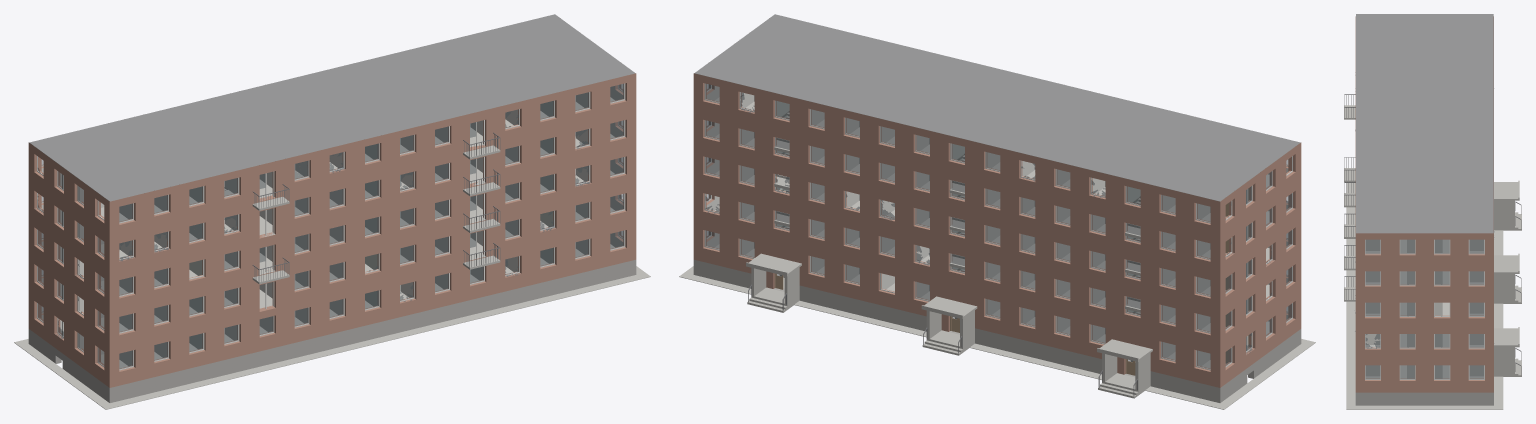
3 views of the same model, side by side, from view 1: azimuth 30°, elevation 25°; view 2: azimuth 150°, elevation 25°; view 3: azimuth 270°, elevation 25° (orthographic). The views are drawn at different scales.
Parts seen in each view (by area): view 1: b6_slab_f05__roof, b6_outer_f04__brick_facade, b6_outer_f00__brick_facade, b6_outer_f02__brick_facade, b6_outer_f01__brick_facade, b6_outer_f03__brick_facade, b6_outer_f00__plinth, b6_apron_f00, b6_glass_f00, b6_glass_f02, b6_glass_f04, b6_glass_f01 (+20 smaller); view 2: b6_slab_f05__roof, b6_outer_f04__brick_facade, b6_outer_f02__brick_facade, b6_outer_f01__brick_facade, b6_outer_f03__brick_facade, b6_outer_f00__brick_facade, b6_outer_f00__plinth, b6_porch_f00__monolith, b6_glass_f03, b6_apron_f00, b6_glass_f01, b6_glass_f02 (+21 smaller); view 3: b6_slab_f05__roof, b6_outer_f04__brick_facade, b6_outer_f03__brick_facade, b6_outer_f02__brick_facade, b6_outer_f00__brick_facade, b6_outer_f01__brick_facade, b6_apron_f00, b6_porch_f00__monolith, b6_outer_f00__plinth, b6_canopy_f00__monolith, b6_glass_f04, b6_glass_f03 (+24 smaller).
Boxes of the visible parts, x1,y1,x2,y2 form: b6_slab_f05__roof: (29, 14, 635, 201); b6_outer_f04__brick_facade: (28, 73, 636, 240); b6_outer_f00__brick_facade: (28, 223, 636, 387); b6_outer_f02__brick_facade: (28, 149, 636, 314); b6_outer_f01__brick_facade: (28, 186, 636, 350); b6_outer_f03__brick_facade: (28, 113, 636, 277); b6_outer_f00__plinth: (28, 259, 636, 402); b6_apron_f00: (14, 266, 650, 409); b6_glass_f00: (37, 230, 624, 368); b6_glass_f02: (37, 157, 624, 295); b6_glass_f04: (38, 84, 624, 222); b6_glass_f01: (37, 194, 624, 332); b6_slab_f05__roof: (694, 14, 1300, 201); b6_outer_f04__brick_facade: (693, 73, 1301, 240); b6_outer_f02__brick_facade: (693, 149, 1301, 314); b6_outer_f01__brick_facade: (693, 186, 1301, 350); b6_outer_f03__brick_facade: (693, 113, 1301, 277); b6_outer_f00__brick_facade: (693, 223, 1301, 387); b6_outer_f00__plinth: (693, 259, 1301, 402); b6_porch_f00__monolith: (747, 267, 1150, 398); b6_glass_f03: (705, 120, 1292, 258); b6_apron_f00: (679, 266, 1315, 409); b6_glass_f01: (705, 194, 1292, 332); b6_glass_f02: (705, 157, 1292, 295); b6_slab_f05__roof: (1356, 14, 1493, 233); b6_outer_f04__brick_facade: (1355, 16, 1493, 267); b6_outer_f03__brick_facade: (1355, 267, 1493, 298); b6_outer_f02__brick_facade: (1355, 298, 1493, 329); b6_outer_f00__brick_facade: (1355, 361, 1493, 392); b6_outer_f01__brick_facade: (1355, 330, 1493, 361); b6_apron_f00: (1346, 183, 1503, 409); b6_porch_f00__monolith: (1494, 200, 1521, 376); b6_outer_f00__plinth: (1355, 392, 1493, 405); b6_canopy_f00__monolith: (1494, 180, 1519, 347); b6_glass_f04: (1355, 88, 1494, 253); b6_glass_f03: (1355, 261, 1483, 284).
Size of the model in its own units: 46.6 by 17.7 by 15.4.
